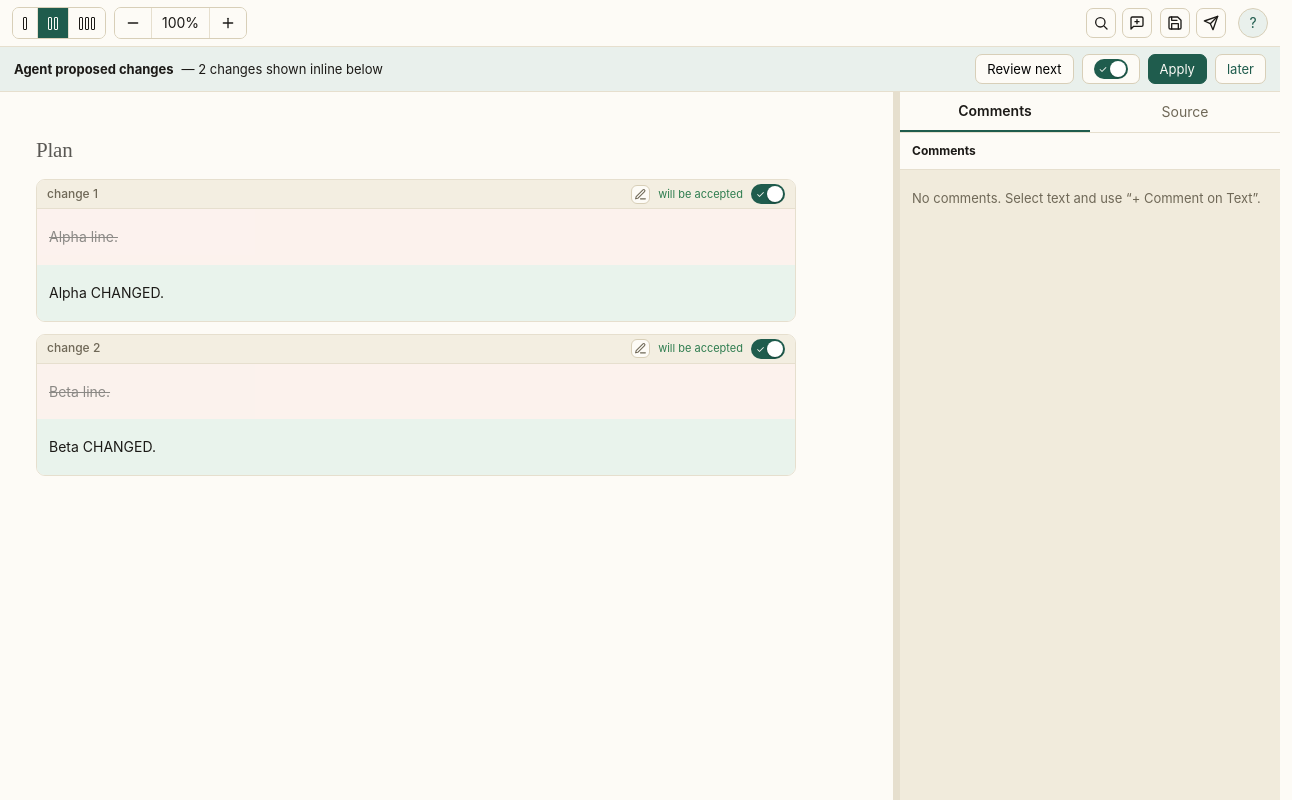
Test: review state initializes synchronously with the proposal › 'Review next' pressed in the review's FIRST commit keeps its cursor
Click the button "Review next" at (1024, 69), box [975,54,1074,84]
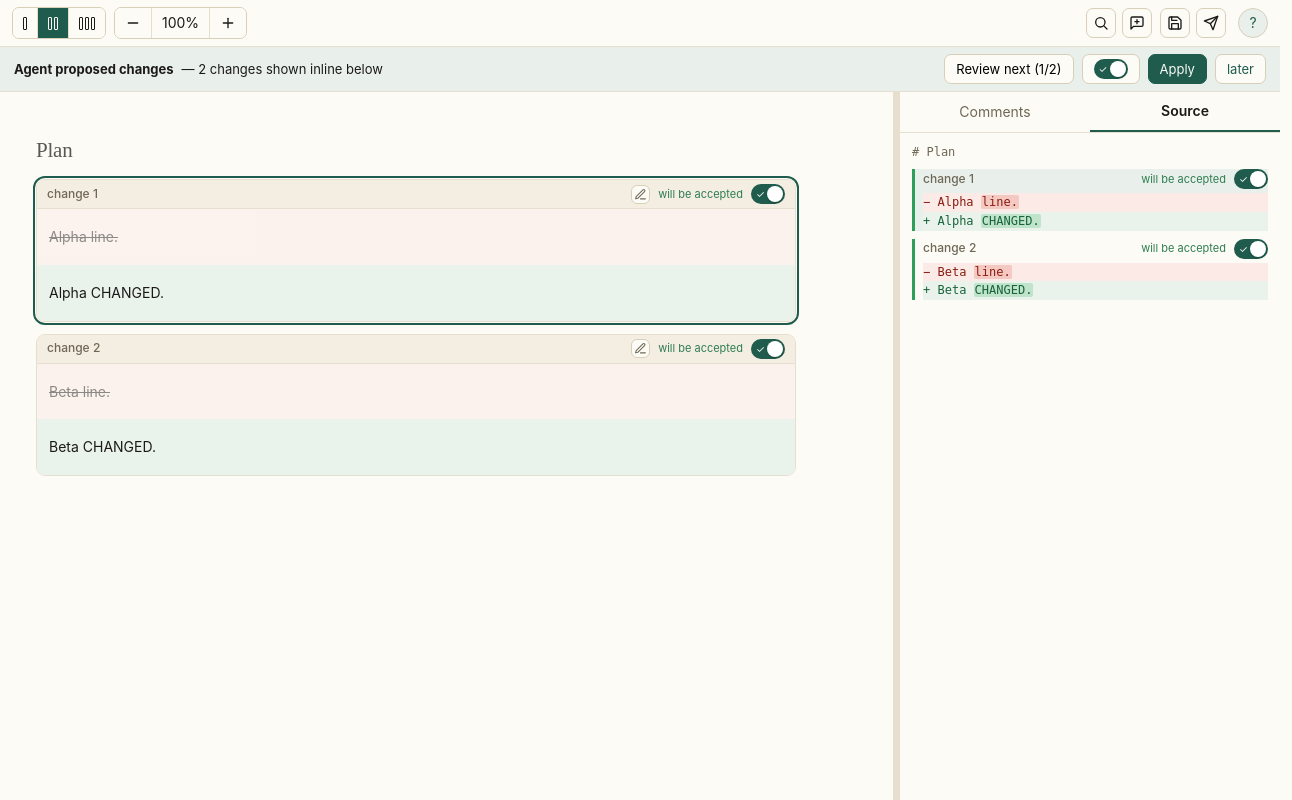
Check: the button "Review next (1/2)" is shown, box [944,54,1074,84]
